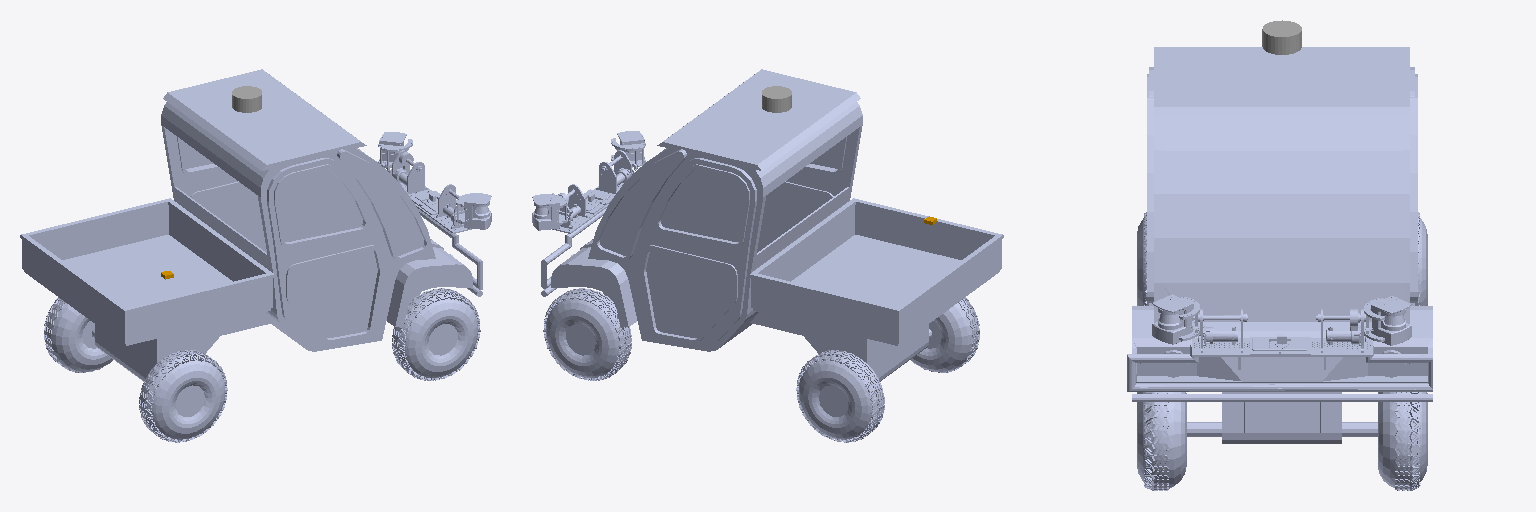
robot.urdf — Gator:
<robot name="Gator">

  <link name="BaseGator">
    <visual>
      <origin xyz="0 0 0" rpy="0 0 0" />
      <geometry>
        <mesh filename="package://gator_description/src/urdf/Base_Gator_treds.stl" />
      </geometry>
      <material name="">
        <color rgba="0.79216 0.81961 0.93333 1" />
      </material>
    </visual>
  </link>

  <link name="FrontPegBoard">
    <visual>
      <origin xyz="0 0 0" rpy="0 0 0" />
      <geometry>
        <mesh filename="package://gator_description/src/urdf/FrontPegBoardAssem.stl" />
      </geometry>
      <material
        name="">
        <color rgba="0.79216 0.81961 0.93333 1" />
      </material>
    </visual>
  </link>

  <link name="FrontCam">
    <visual>
      <origin xyz="0 0 0" rpy="0 0 0" />
      <geometry>
        <mesh filename="package://gator_description/src/urdf/FrontCamAssem.stl" />
      </geometry>
      <material
        name="">
        <color rgba="0.79216 0.81961 0.93333 1" />
      </material>
    </visual>
  </link>

  <link name="LeftTUMount">
    <visual>
      <origin xyz="0 0 0" rpy="0 0 0" />
      <geometry>
        <mesh filename="package://gator_description/src/urdf/LeftTU.stl" />
      </geometry>
      <material
        name="">
        <color rgba="0.79216 0.81961 0.93333 1" />
      </material>
    </visual>
  </link>

  <link name="LeftLIDAR">
    <visual>
      <origin xyz="0 0 0" rpy="0 0 0" />
      <geometry>
        <mesh filename="package://gator_description/src/urdf/LeftLIDAR.stl" />
      </geometry>
      <material
        name="">
        <color rgba="0.79216 0.81961 0.93333 1" />
      </material>
    </visual>
  </link>

  <link name="RightTUMount">
    <visual>
      <origin xyz="0 0 0" rpy="0 0 0" />
      <geometry>
        <mesh filename="package://gator_description/src/urdf/RightTU.stl" />
      </geometry>
      <material
        name="">
        <color rgba="0.79216 0.81961 0.93333 1" />
      </material>
    </visual>
  </link>

   <link name="RightLIDAR">
    <visual>
      <origin xyz="0 0 0" rpy="0 0 0" />
      <geometry>
        <mesh filename="package://gator_description/src/urdf/RightLIDAR.stl" />
      </geometry>
      <material
        name="">
        <color rgba="0.79216 0.81961 0.93333 1" />
      </material>
    </visual>
  </link>

  <link name="GPS">
    <visual>
      <geometry>
        <cylinder length="0.1" radius="0.1" />
      </geometry>
    </visual>
  </link>

  <link name="IMU">
    <visual>
      <origin xyz="0 0 0" rpy="0 0 0" />
      <geometry>
        <box size="0.0635 0.0635 0.0254" />
      </geometry>
    </visual>
  </link>



  <joint name="Base_FrontPeg" type="fixed">
    <parent link="BaseGator" />
    <child link="FrontPegBoard" />
    <origin xyz="2.23 0 0.885" rpy="0 0 0" />
  </joint>

  <joint name="Base_GPS" type="fixed">
    <parent link="BaseGator" />
    <child link="GPS" />
    <origin xyz="0.8382 0 1.97" rpy="0 0 0" />
  </joint>

  <joint name="Base_IMU" type="fixed">
    <parent link="BaseGator" />
    <child link="IMU" />
    <origin xyz="-0.04175 -0.483 1.1073" rpy="0 0 3.14" />
  </joint>

  <joint name="FrontPeg_to_FrontCam" type="fixed">
    <parent link="FrontPegBoard" />
    <child link="FrontCam" />
    <origin xyz="0.0065 0 0.0518" rpy="0 0 0" />
  </joint>

  <joint name="FrontPeg_to_LeftTUMount" type="fixed">
    <parent link="FrontPegBoard" />
    <child link="LeftTUMount" />
    <origin xyz="0.0825 0.196 0.0128" rpy="0 0 0" />
  </joint>

  <joint name="LeftTUMount_to_LeftLIDAR" type="continuous">
    <parent link="LeftTUMount" />
    <child link="LeftLIDAR" />
    <origin xyz="-0.03978611 0.37064375 0.17109429" rpy="0 0 0.78539816339" />
  </joint>

  <joint name="FrontPeg_to_RightTUMount" type="fixed">
    <parent link="FrontPegBoard" />
    <child link="RightTUMount" />
    <origin xyz="0.0825 -0.196 0.0128" rpy="0 0 0" />
  </joint>

  <joint name="RightTUMount_to_RightLIDAR" type="continuous">
    <parent link="RightTUMount" />
    <child link="RightLIDAR" />
    <origin xyz="-0.04054939 -0.37181215 0.18742358" rpy="0 0 -0.78539816339" />
  </joint>


</robot>

--- What the picture shows (computed from the rendered views, not written in the file) ---
Views: 3 orthographic renders of the robot side by side, from view 1: azimuth 30°, elevation 25°; view 2: azimuth 150°, elevation 25°; view 3: azimuth 270°, elevation 25°.
Robot: Gator — 9 links, 8 joints (2 continuous, 6 fixed); root link BaseGator; default pose: every joint at zero.
Links seen in each view (by area): view 1: BaseGator, RightLIDAR, LeftTUMount, LeftLIDAR, GPS, RightTUMount; view 2: BaseGator, LeftLIDAR, RightTUMount, RightLIDAR, GPS, LeftTUMount; view 3: BaseGator, FrontPegBoard, RightLIDAR, LeftLIDAR, GPS, LeftTUMount, FrontCam, RightTUMount.
Boxes of the visible links, box(x1,y1,x2,y2) form: BaseGator: box(20, 69, 482, 442); RightLIDAR: box(453, 193, 491, 229); LeftTUMount: box(383, 150, 427, 193); LeftLIDAR: box(378, 132, 412, 170); GPS: box(232, 86, 261, 112); RightTUMount: box(436, 184, 463, 228); BaseGator: box(541, 69, 1003, 442); LeftLIDAR: box(532, 193, 570, 230); RightTUMount: box(596, 150, 639, 193); RightLIDAR: box(611, 131, 645, 170); GPS: box(762, 86, 791, 112); LeftTUMount: box(558, 184, 587, 228); BaseGator: box(1127, 47, 1432, 490); FrontPegBoard: box(1192, 338, 1372, 369); RightLIDAR: box(1152, 294, 1199, 344); LeftLIDAR: box(1364, 296, 1411, 345); GPS: box(1262, 20, 1301, 54); LeftTUMount: box(1316, 309, 1370, 352); FrontCam: box(1250, 335, 1310, 354); RightTUMount: box(1193, 309, 1247, 352).
Size in the robot's own frame: 2.85 by 1.55 by 2.05 metres.
Meshes: 7 distinct files referenced, 7 mesh visuals loaded (7 binary STL).